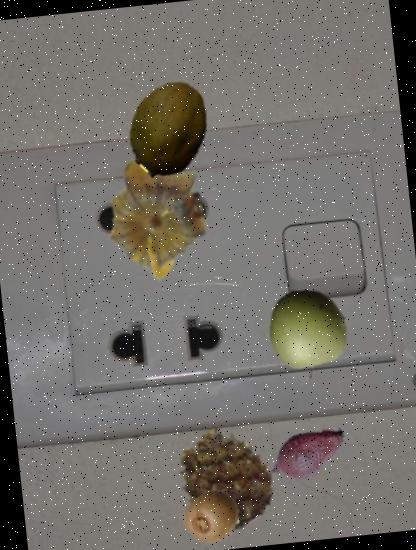Apple: (259, 284, 358, 382)
Kiwi: (180, 485, 244, 548)
Papaya: (116, 75, 222, 181)
Physalis: (85, 148, 225, 288)
Pineapple: (168, 421, 284, 536)
Salak: (260, 408, 352, 500)
